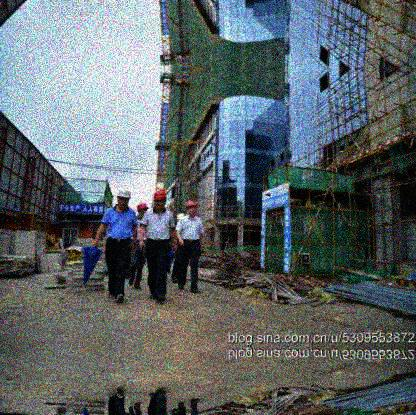helmet: (114, 188, 132, 210), (153, 189, 167, 211), (186, 199, 198, 217), (137, 203, 148, 217)
